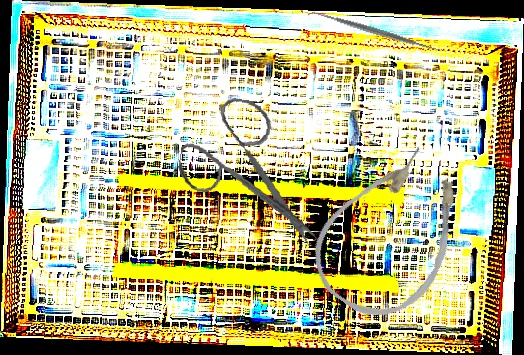Cannula: (294, 128, 492, 338)
Iris Scissors: (169, 91, 337, 247)
Spatula Surgical: (306, 4, 444, 59)
